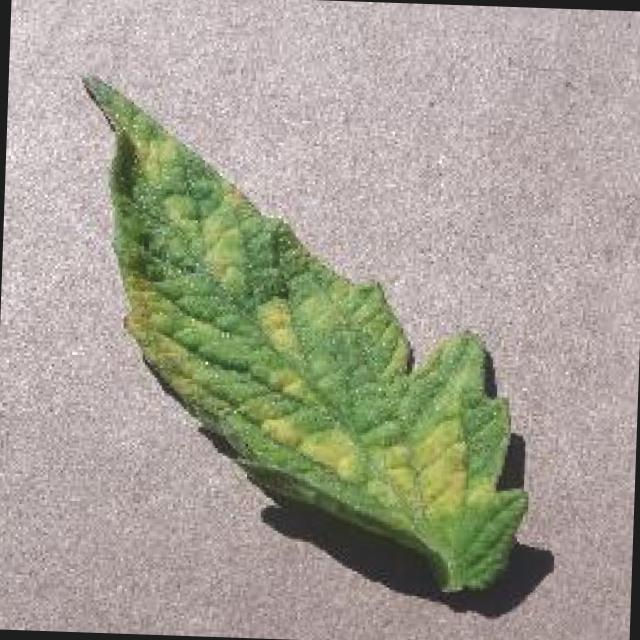leaf mold: (95, 79, 526, 591)
